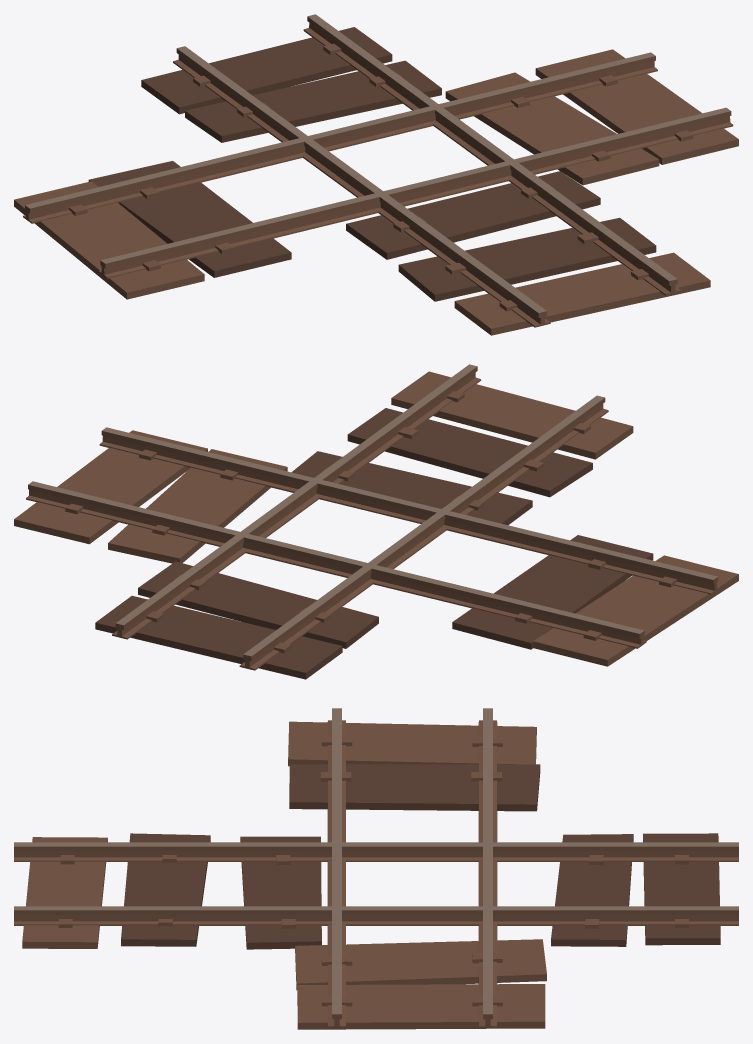
File: Mines Car Track Crossover.glb
The picture shows the model from 3 angles, top to bottom: view 1: azimuth 30°, elevation 25°; view 2: azimuth 150°, elevation 25°; view 3: azimuth 270°, elevation 25°; orthographic projection. The views are drawn at different scales.
Parts seen in each view (by area): view 1: Mines Car Track Crossover; view 2: Mines Car Track Crossover; view 3: Mines Car Track Crossover.
Boxes of the visible parts, x1,y1,x2,y2 form: Mines Car Track Crossover: [14, 14, 738, 335]; Mines Car Track Crossover: [14, 364, 738, 679]; Mines Car Track Crossover: [14, 708, 738, 1029].
Size of what is drawn, in the model's own units: 3 by 0.092 by 3.
1 material, 1 textured.
